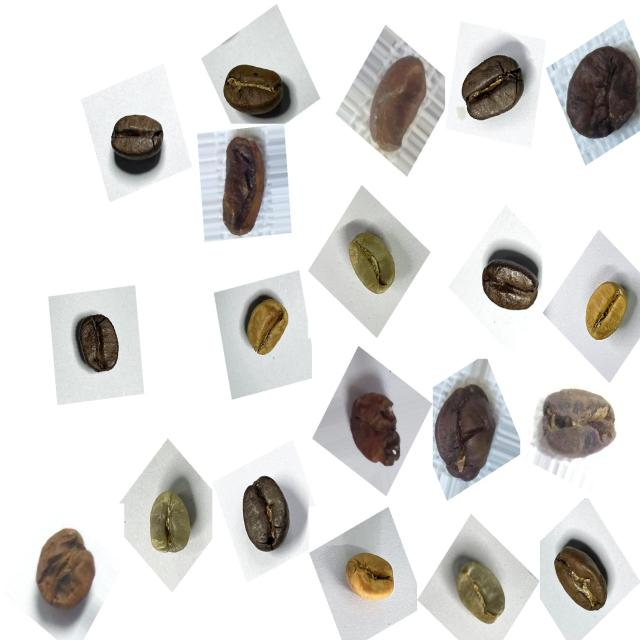bad: (557, 32, 640, 153), (425, 371, 508, 490), (25, 514, 108, 622), (211, 128, 282, 248), (534, 376, 624, 470), (358, 48, 432, 161), (336, 378, 409, 476)
dark: (454, 46, 534, 139), (231, 468, 304, 565), (103, 100, 176, 184), (218, 48, 297, 125), (471, 247, 545, 329), (66, 302, 134, 386)
green: (444, 548, 514, 636), (137, 480, 204, 570), (337, 223, 406, 308)
light: (235, 283, 301, 366), (332, 540, 402, 616), (574, 274, 637, 356)
medium: (545, 534, 619, 624)
